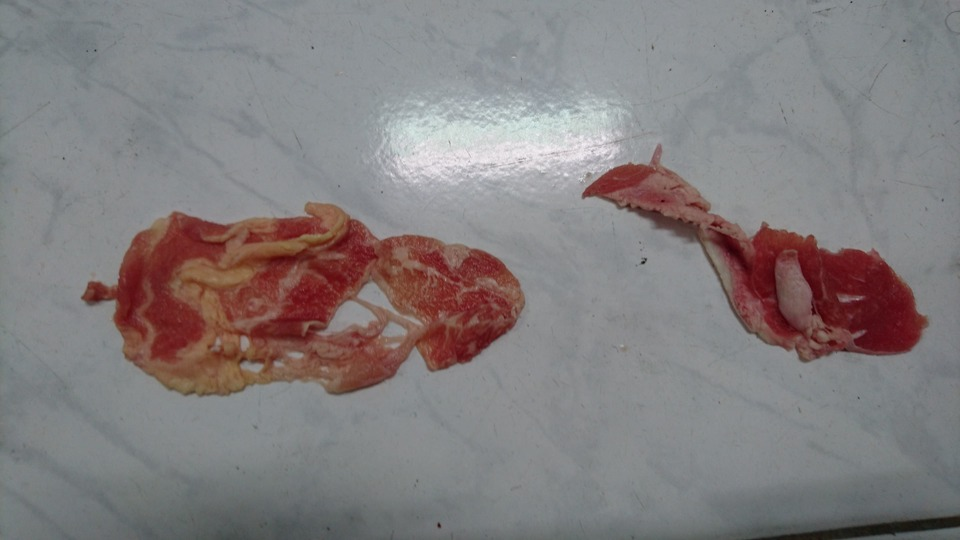restructured meat: (557, 128, 924, 370), (88, 215, 535, 388)
